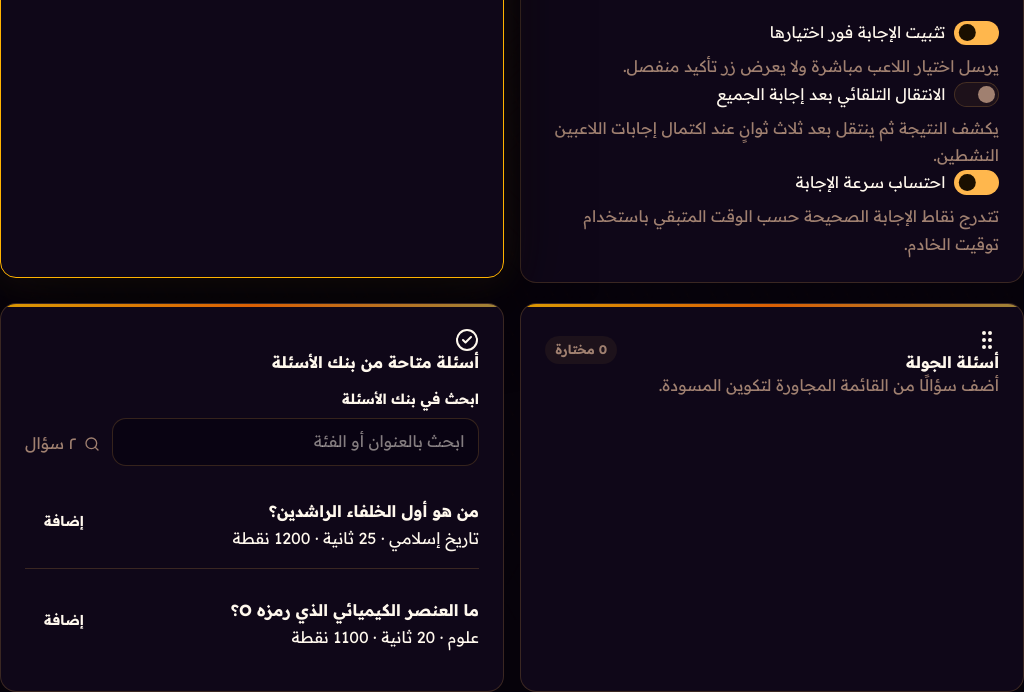
Scenario: QuizBuilder › يبحث في الأسئلة المتاحة بالعنوان أو الفئة
(page scrolled)
Step 1. Type "علوم" into the search field labelled "ابحث في بنك الأسئلة" → (296, 442), box [127,419,464,465]
(page scrolled)
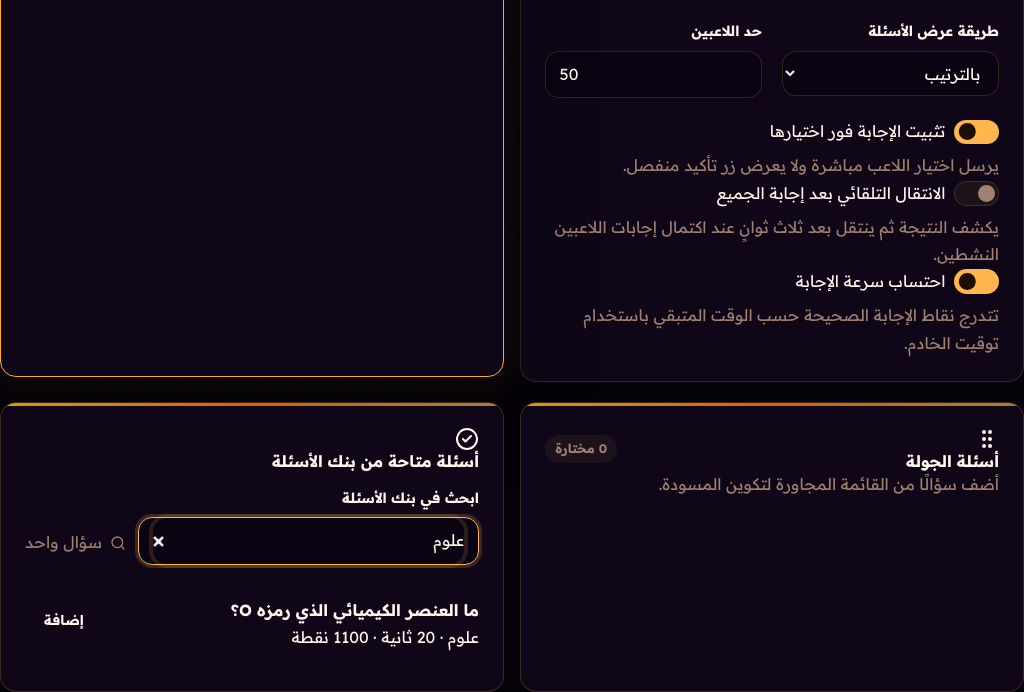
Expected: the text "ما العنصر الكيميائي الذي رمزه O؟" is shown, [231,600,479,620]
Expected: the text "من هو أول الخلفاء الراشدين؟" is gone
Expected: the message named "نتائج بنك الأسئلة" reads "سؤال واحد", [25,532,102,552]
